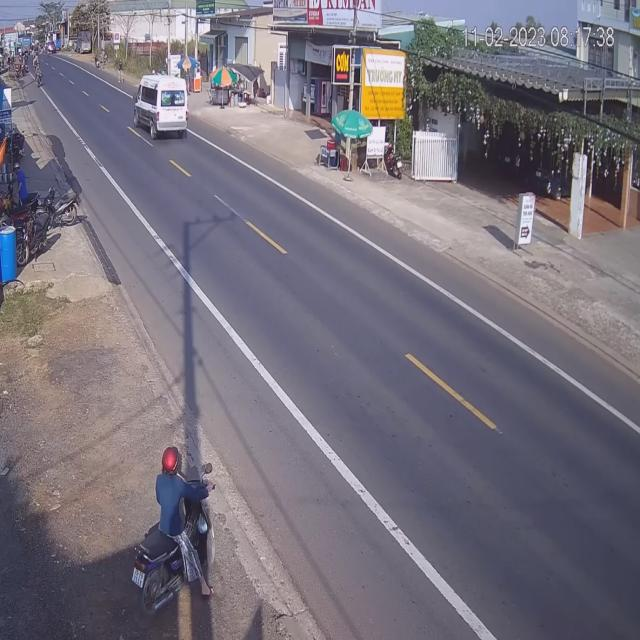bus: (137, 71, 190, 140)
motorbike: (132, 482, 219, 608), (317, 139, 332, 169)
